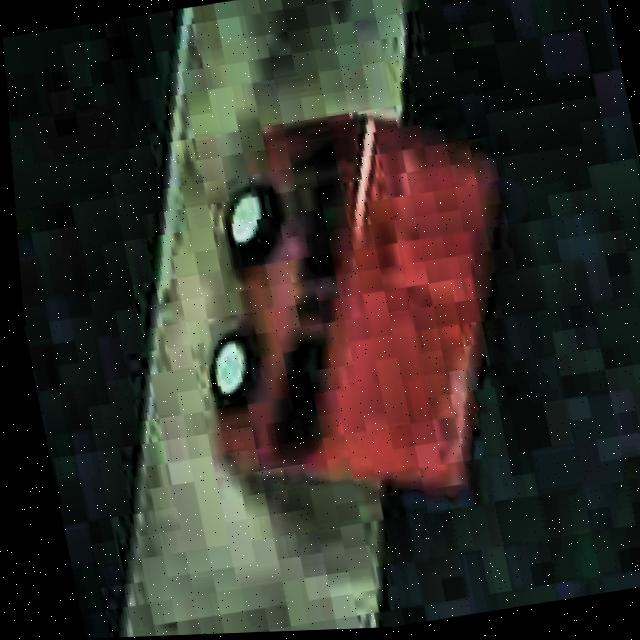bus: (147, 88, 561, 526)
